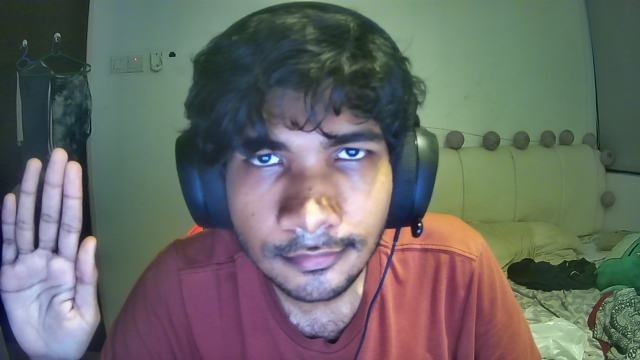Hello: (2, 147, 102, 360)
